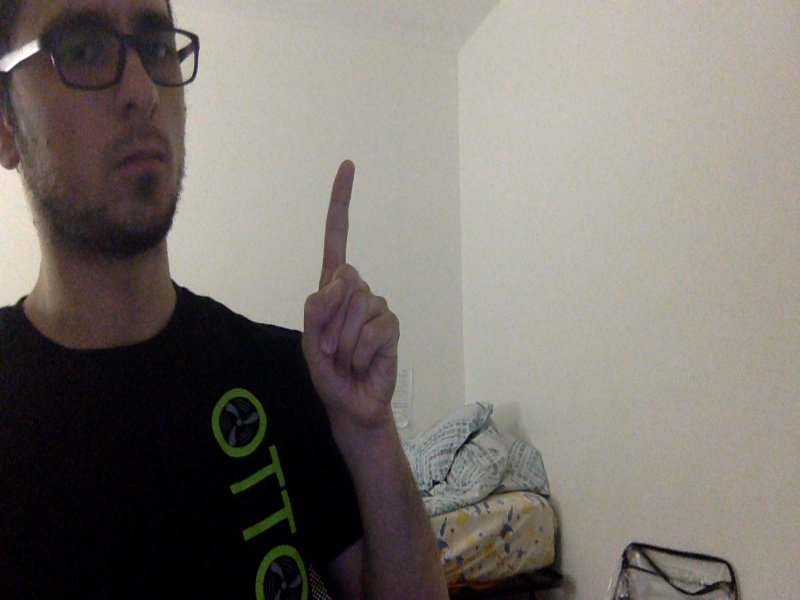1-hand: (301, 159, 407, 423)
